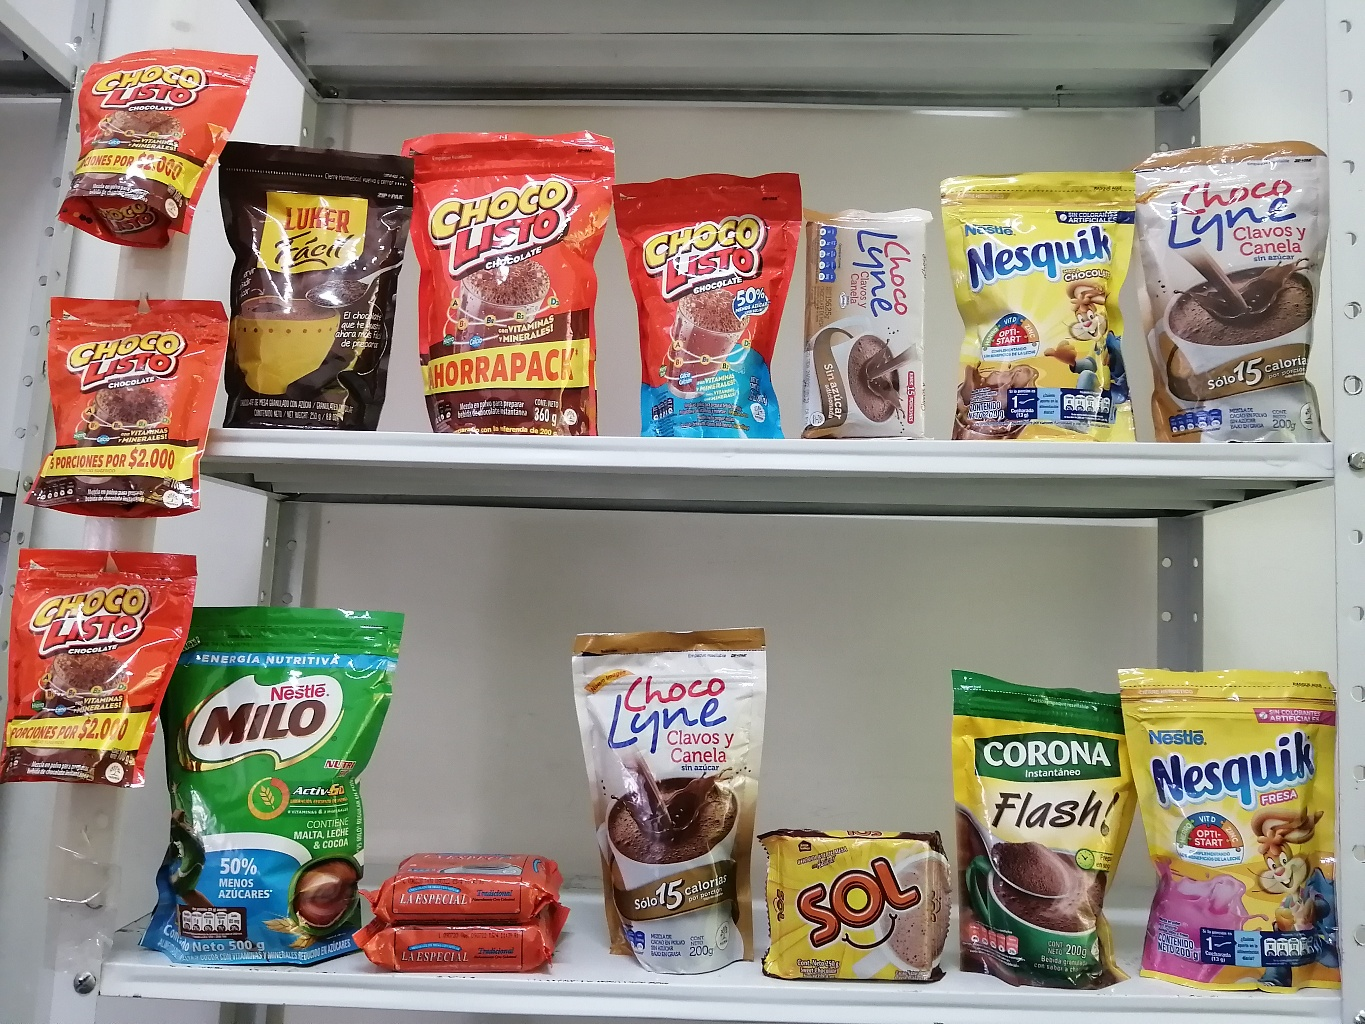COL0170103DYP36000: (388, 114, 634, 443)
COL0170104DYP20000: (601, 161, 817, 452)
COL0170205DYP50000: (125, 586, 408, 981)
COL0170303DYP20000: (932, 165, 1157, 445)
COL0170305DYP20000: (1103, 655, 1352, 1010)
